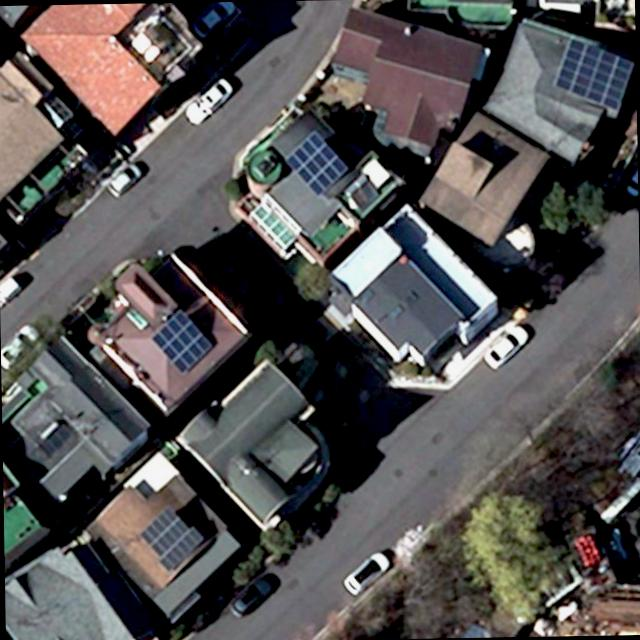solar: (548, 36, 636, 112), (137, 504, 205, 576), (150, 306, 219, 376), (284, 128, 348, 200)
